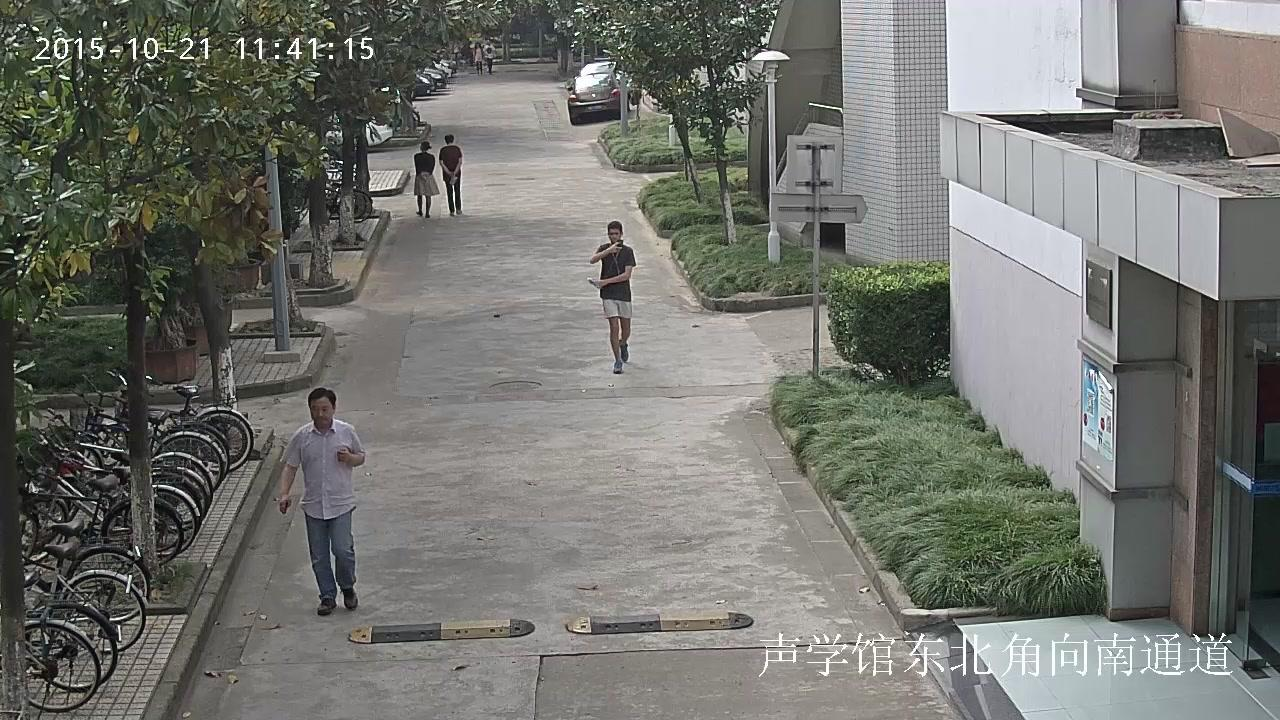face: (310, 396, 332, 426), (609, 227, 620, 241), (476, 43, 479, 47), (487, 40, 490, 44)
